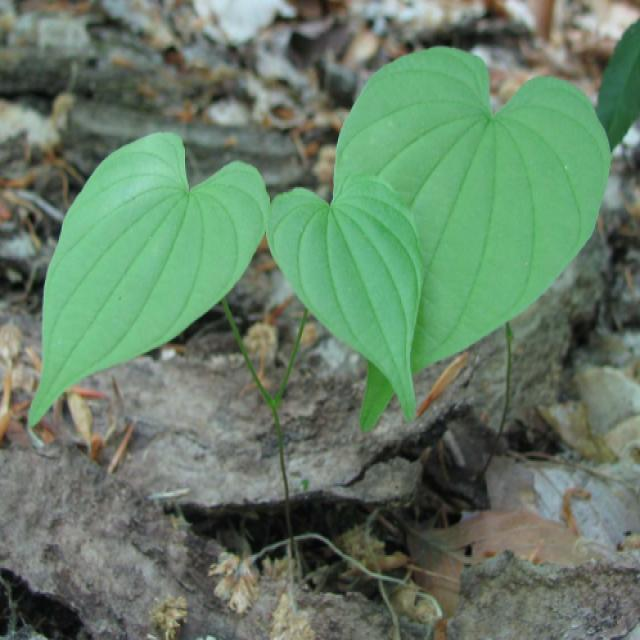Yam: (317, 0, 568, 397), (11, 119, 250, 404), (250, 159, 440, 394)
